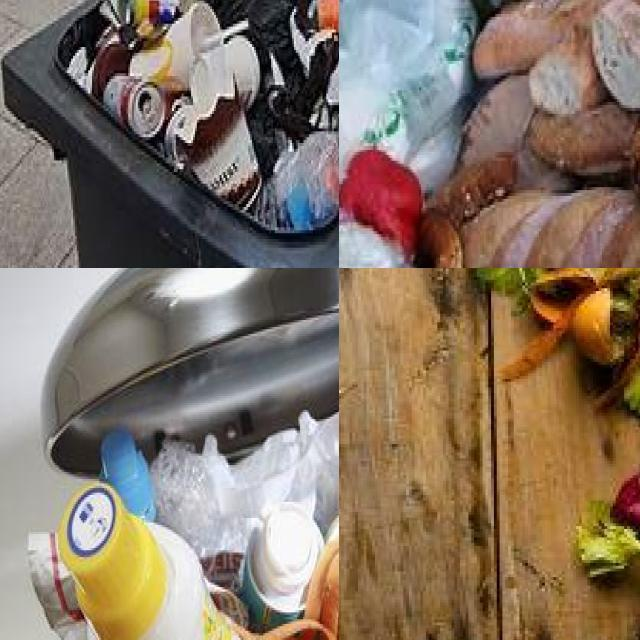Disposable: (129, 1, 221, 91), (191, 37, 260, 119)
Garbage: (339, 0, 640, 268), (28, 417, 339, 640), (61, 0, 339, 231)
Plastic_Bag: (150, 413, 339, 560), (339, 0, 476, 194), (243, 0, 339, 136)
Plastic_Container: (58, 484, 231, 640), (242, 507, 322, 632), (101, 430, 155, 519)
Plastic_Straw: (221, 20, 248, 40)
Plastic_bottle: (263, 127, 339, 231), (308, 0, 339, 30)
can: (103, 74, 166, 138)
